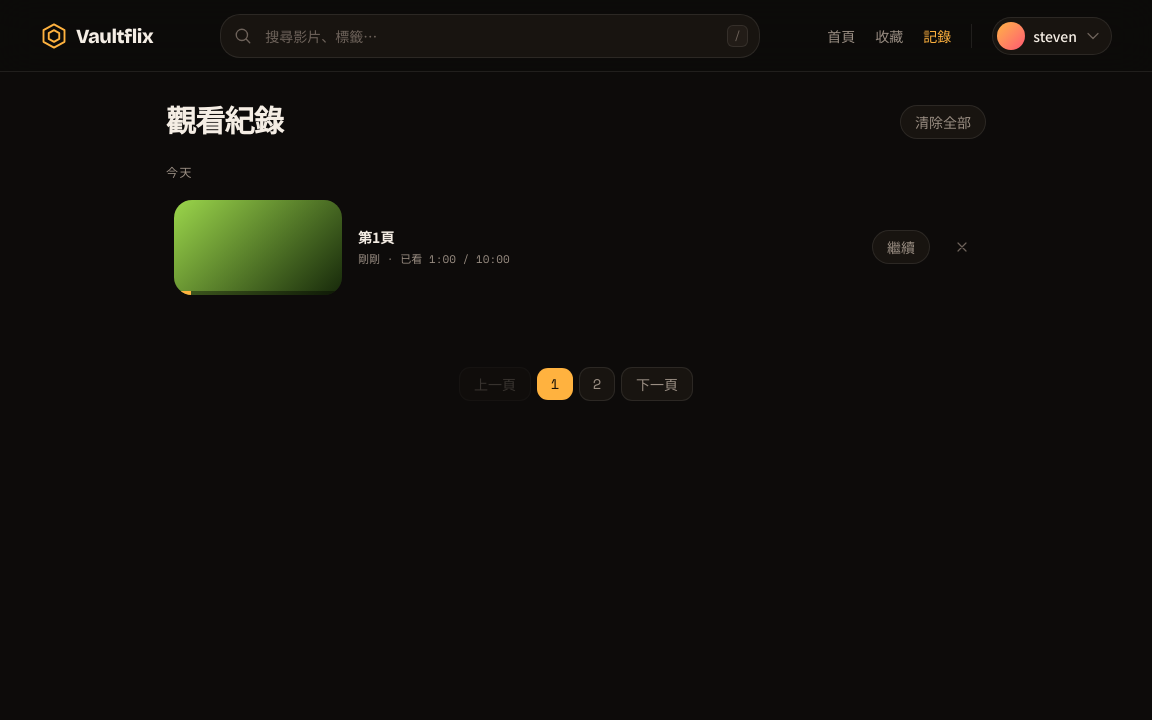
Scenario: HistoryPage › lands on an empty page 1 after clearing the history from a later page
Step 1. Click the button "2" → (597, 384), box x1=579 y1=366 x2=615 y2=400
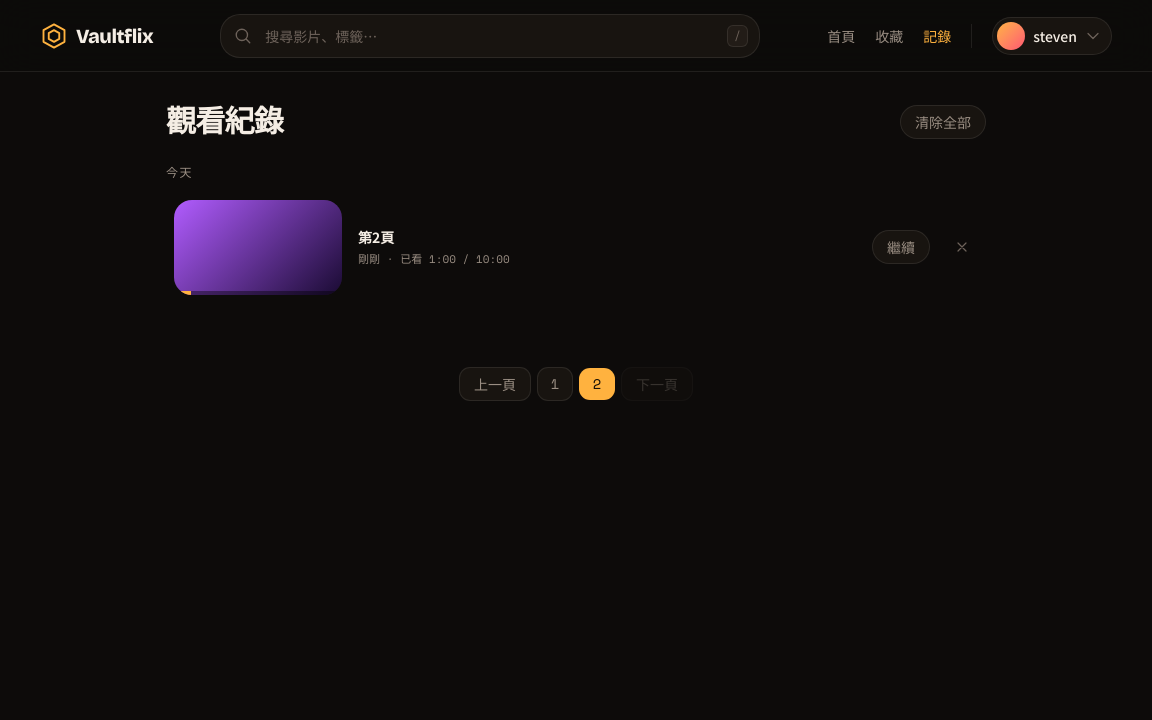
Step 2. Click the button "清除全部" → (943, 122), box x1=900 y1=105 x2=986 y2=139
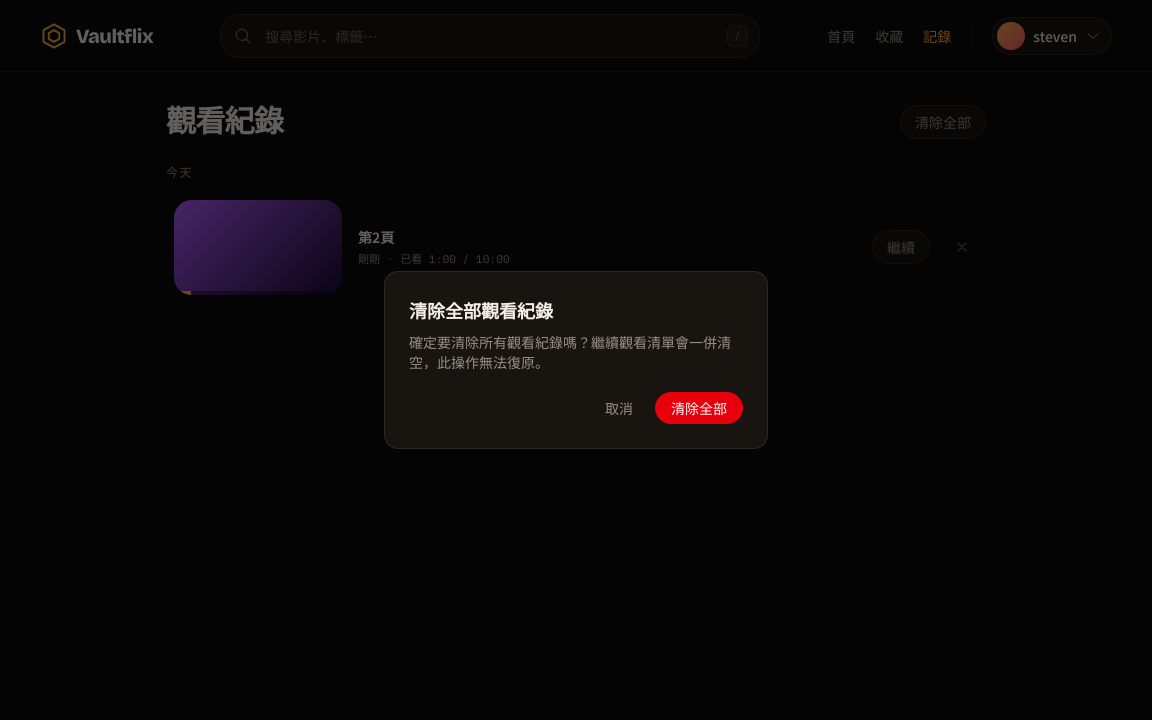
Step 3. Click the button "清除全部" → (699, 408), box x1=655 y1=392 x2=743 y2=424
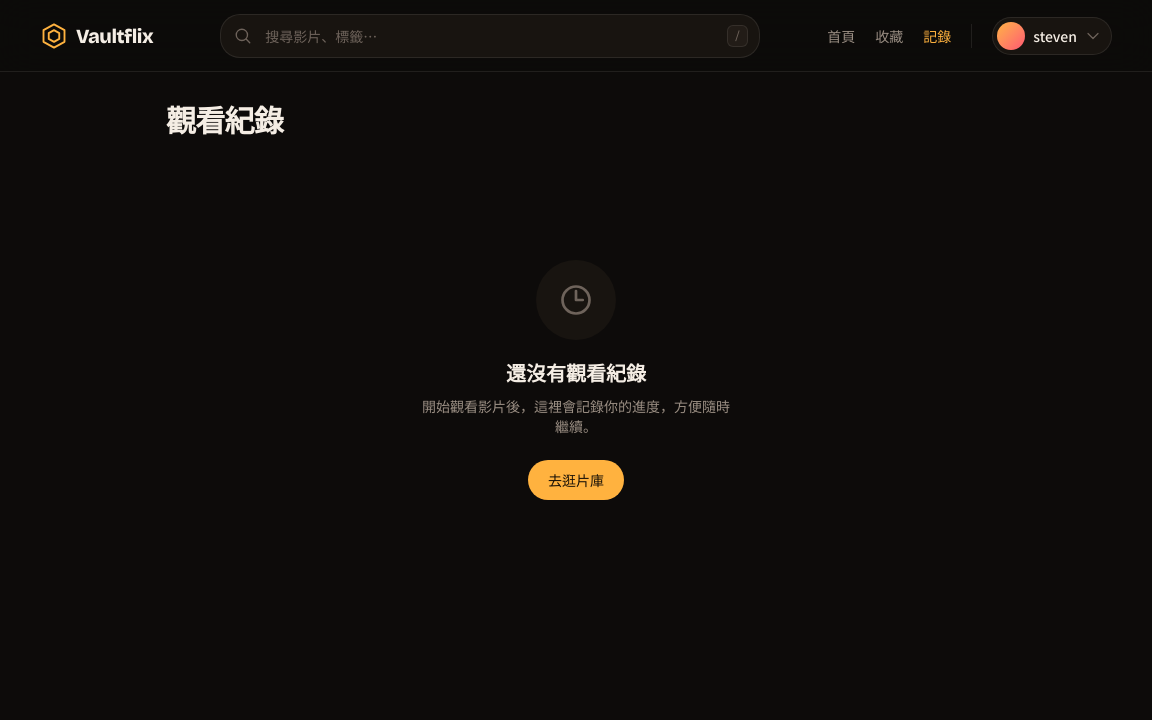
Result: the heading "還沒有觀看紀錄" is shown at x1=506 y1=360 x2=646 y2=388
